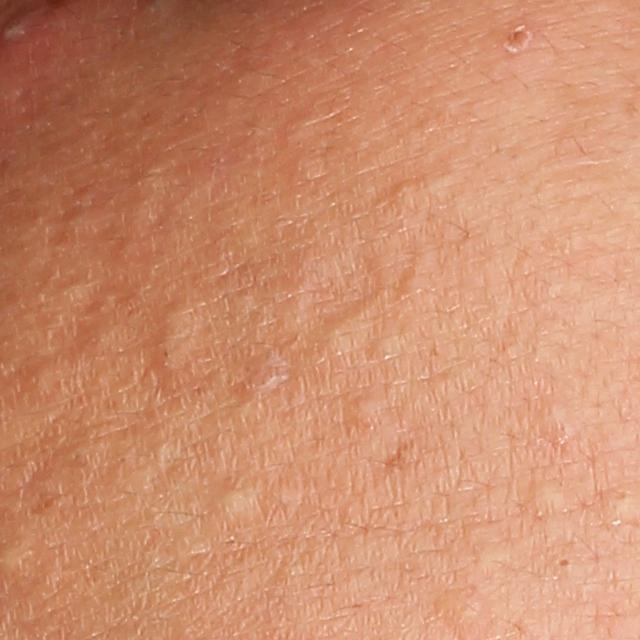comedo: (153, 299, 198, 380), (238, 357, 294, 400), (340, 389, 385, 433), (529, 478, 574, 515), (317, 309, 353, 353), (24, 358, 57, 404), (386, 177, 420, 215), (535, 400, 569, 436), (215, 485, 251, 518), (553, 551, 576, 579)
